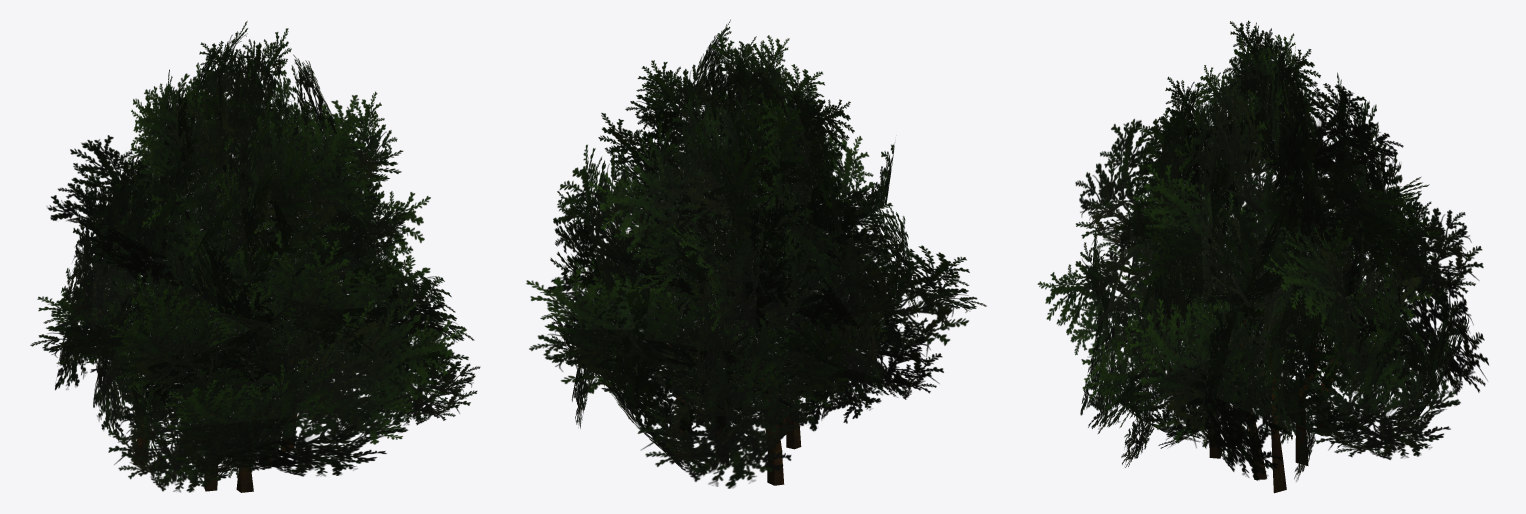
Rendered from Plant_E.glb.
3 renders of one model, left to right at view 1: azimuth 30°, elevation 25°; view 2: azimuth 150°, elevation 25°; view 3: azimuth 270°, elevation 25°, orthographic. The views are drawn at different scales.
Visible parts, largest first — view 1: Plant_E; view 2: Plant_E; view 3: Plant_E.
Boxes of the visible parts, x1,y1,x2,y2 form: Plant_E: (30,21,480,492); Plant_E: (526,19,986,488); Plant_E: (1037,20,1489,493).
Bounding box in the file's own units: 1.09 × 1.14 × 1.13.
Materials: 1 (1 with a texture image).
